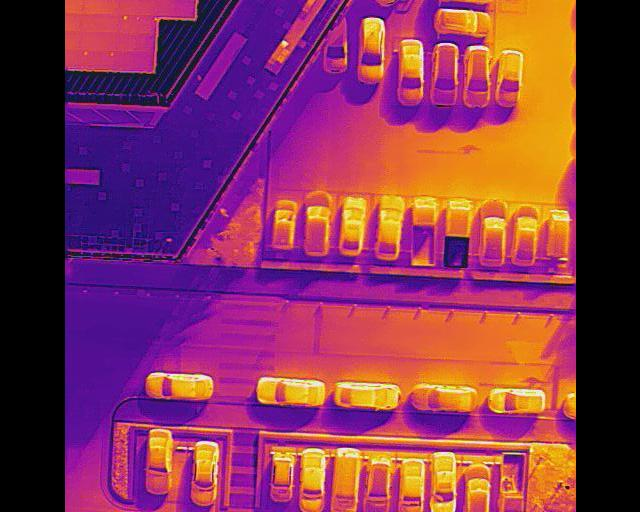Cell-Multi: (80, 50, 118, 70), (117, 15, 155, 34)
No-Anomaly: (80, 14, 120, 34), (80, 32, 119, 51), (157, 0, 195, 18), (117, 34, 154, 52), (118, 53, 153, 71), (120, 0, 157, 16), (82, 0, 121, 15)
